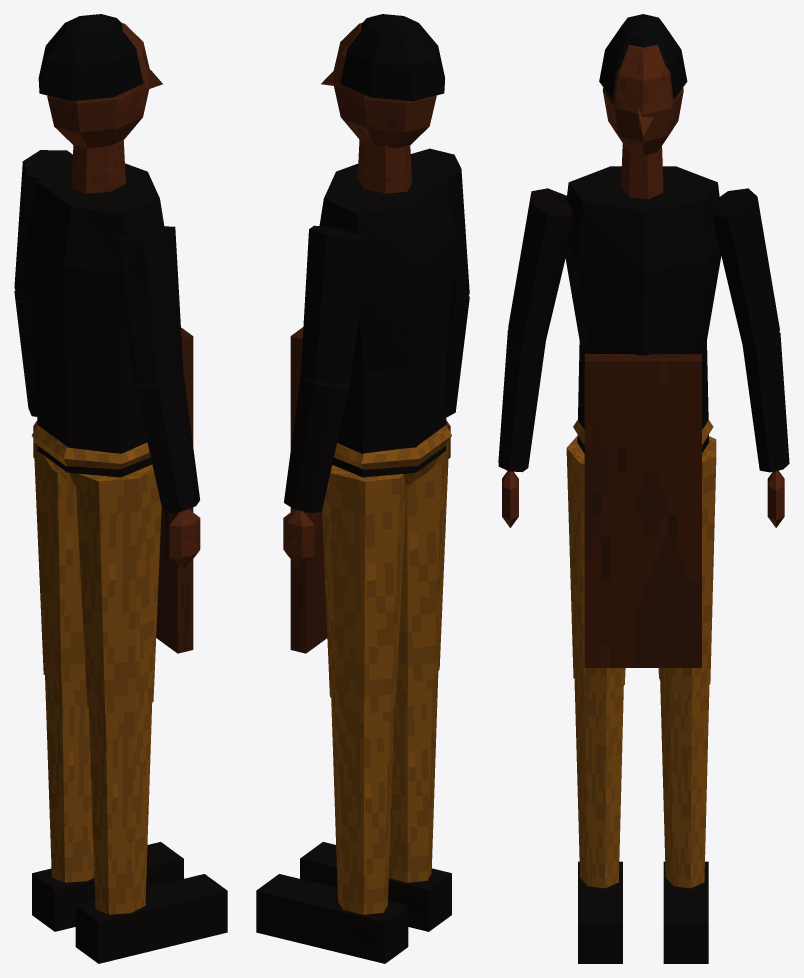
File: herrero.glb
The picture shows the model from 3 angles, left to right: view 1: azimuth 30°, elevation 25°; view 2: azimuth 150°, elevation 25°; view 3: azimuth 270°, elevation 25°; orthographic projection. The views are drawn at different scales.
Parts seen in each view (by area): view 1: torso, muslo_der, pierna_der, muslo_izq, pierna_izq, brazo_der, pie_der, cabello, antebrazo_der, cabeza, delantal, pie_izq (+5 smaller); view 2: torso, muslo_izq, pierna_izq, muslo_der, pierna_der, brazo_izq, pie_izq, cabello, antebrazo_izq, cabeza, delantal, pie_der (+5 smaller); view 3: delantal, torso, pierna_izq, pierna_der, brazo_izq, brazo_der, cabeza, muslo_der, antebrazo_izq, antebrazo_der, muslo_izq, pie_izq (+5 smaller).
Boxes of the visible parts, box(x1,y1,x2,y2) form: torso: box(27, 156, 164, 477); muslo_der: box(75, 464, 161, 713); pierna_der: box(88, 702, 152, 914); muslo_izq: box(33, 440, 85, 681); pierna_izq: box(45, 675, 94, 882); brazo_der: box(115, 226, 183, 384); pie_der: box(75, 874, 227, 963); cabello: box(38, 14, 143, 101); antebrazo_der: box(134, 373, 199, 512); cabeza: box(47, 23, 162, 148); delantal: box(156, 327, 193, 653); pie_izq: box(32, 842, 183, 931); torso: box(319, 156, 456, 477); muslo_izq: box(322, 465, 406, 713); pierna_izq: box(331, 699, 394, 914); muslo_der: box(397, 440, 449, 682); pierna_der: box(388, 672, 438, 882); brazo_izq: box(300, 225, 369, 384); pie_izq: box(256, 874, 408, 963); cabello: box(340, 14, 445, 101); antebrazo_izq: box(284, 375, 349, 513); cabeza: box(321, 23, 436, 148); delantal: box(290, 327, 327, 653); pie_der: box(300, 842, 451, 931); delantal: box(584, 354, 701, 667); torso: box(565, 166, 721, 453); pierna_izq: box(660, 680, 709, 888); pierna_der: box(574, 679, 623, 888); brazo_izq: box(711, 188, 779, 346); brazo_der: box(508, 188, 572, 346); cabeza: box(602, 45, 683, 155); muslo_der: box(566, 436, 625, 692); antebrazo_izq: box(742, 332, 789, 472); antebrazo_der: box(498, 330, 545, 472); muslo_izq: box(658, 436, 716, 692); pie_izq: box(663, 861, 708, 963).
Size of the model in its own units: 0.3 by 1.7 by 0.5.
Materials: 1 (1 with a texture image).
